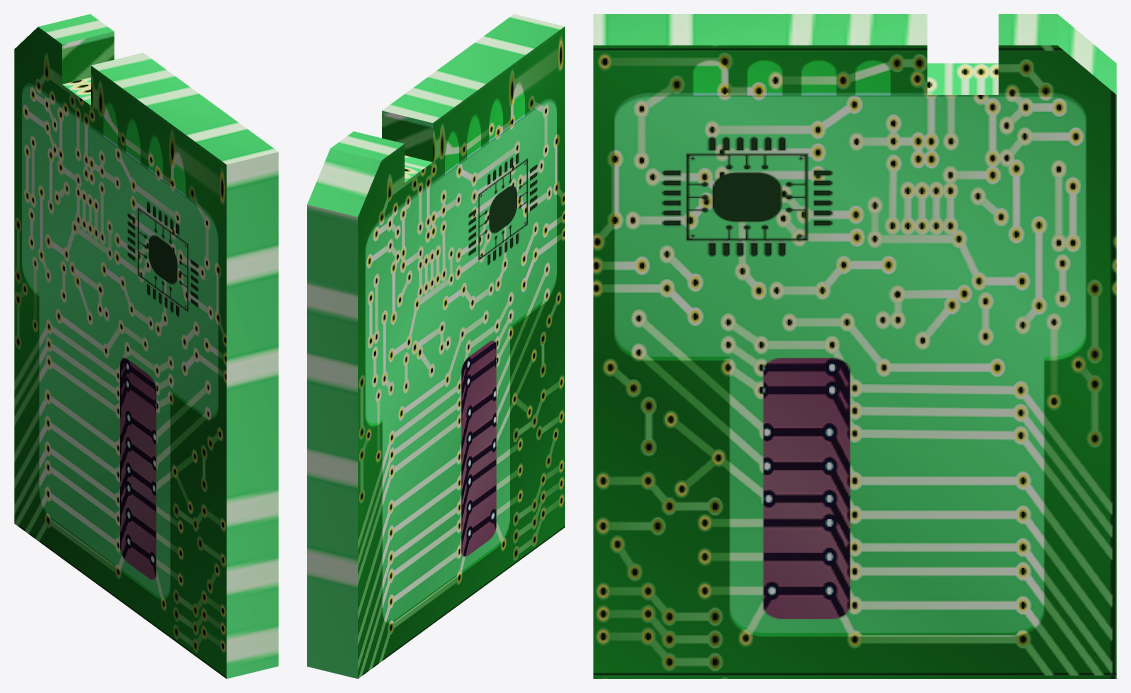
Rendered from keycard_green.glb.
3 renders of one model, left to right at view 1: azimuth 30°, elevation 25°; view 2: azimuth 150°, elevation 25°; view 3: azimuth 270°, elevation 25°, orthographic. The views are drawn at different scales.
Parts seen in each view (by area): view 1: Cube; view 2: Cube; view 3: Cube.
Part boxes in pixels (x1=…): Cube: x1=14, y1=14, x2=278, y2=678; Cube: x1=307, y1=14, x2=564, y2=678; Cube: x1=593, y1=14, x2=1116, y2=678.
Bounding box in the file's own units: 0.2926 × 2.75 × 2.06.
Materials: 1 (1 with a texture image).
